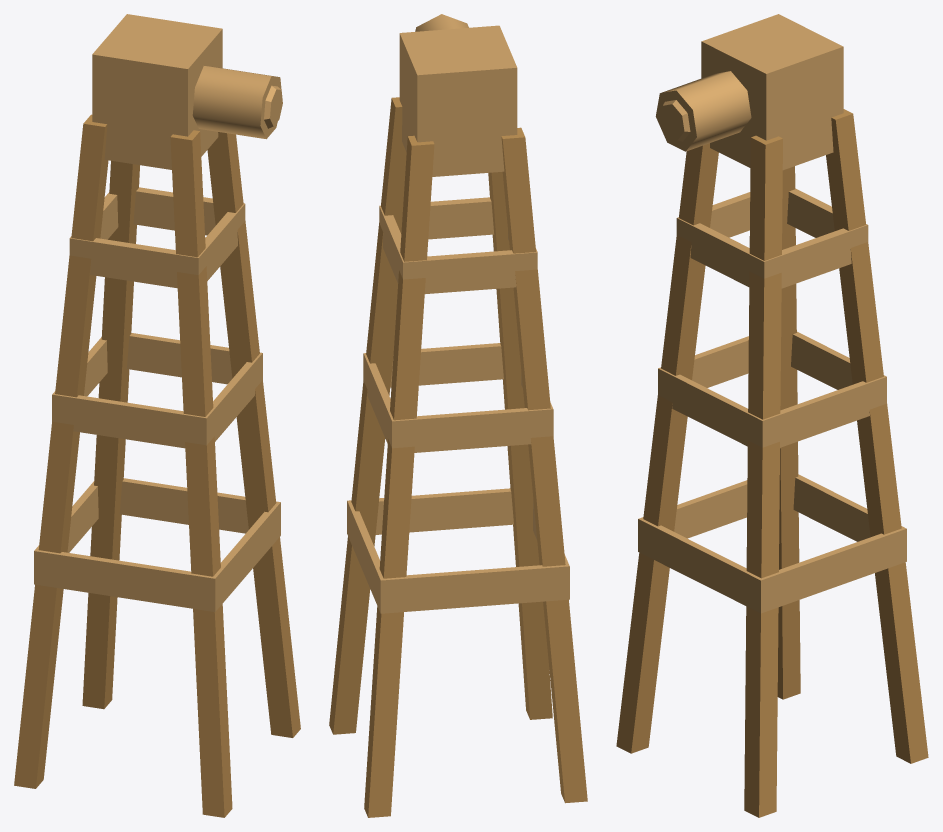
File: windmill_base.FBX
3 renders of one model, left to right at view 1: azimuth 30°, elevation 25°; view 2: azimuth 150°, elevation 25°; view 3: azimuth 270°, elevation 25°, orthographic.
Visible parts, largest first — view 1: Box062; view 2: Box062; view 3: Box062.
Part boxes in pixels (left/top/right/bottom): Box062: left=14, top=14, right=300, bottom=817; Box062: left=329, top=14, right=587, bottom=817; Box062: left=616, top=14, right=928, bottom=817.
Size of the model in its own units: 5.06 by 12.67 by 5.06.
1 material, 1 textured.
